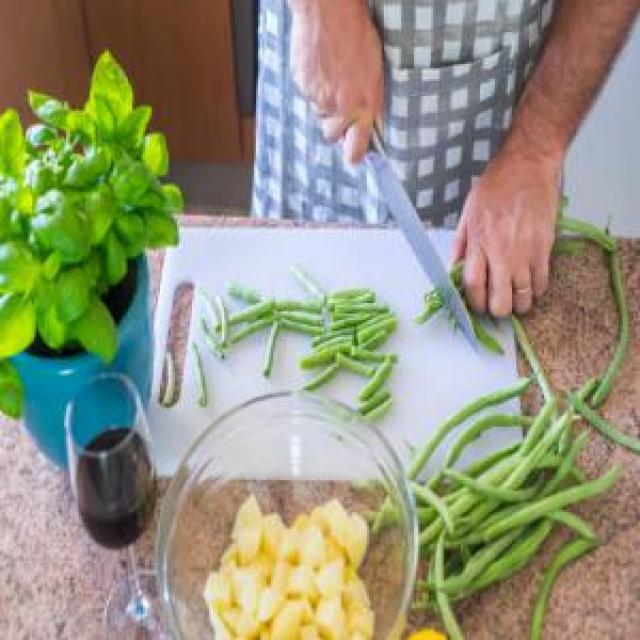knife: (312, 56, 484, 353)
